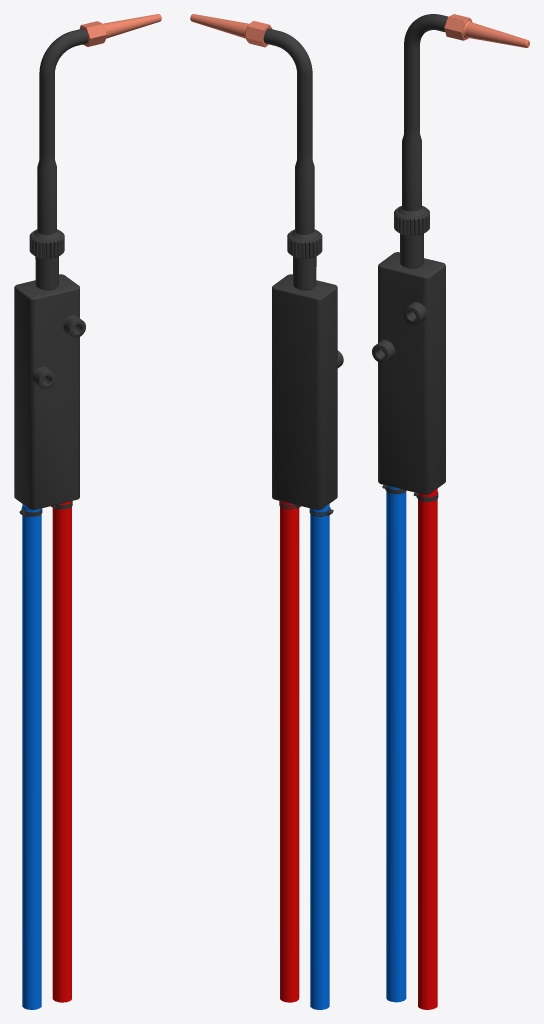
Rendered from Wilding Torch.fbx.
3 views of the same model, side by side, from view 1: azimuth 30°, elevation 25°; view 2: azimuth 150°, elevation 25°; view 3: azimuth 330°, elevation 25° (orthographic). The views are drawn at different scales.
Parts seen in each view (by area): view 1: Welding Kit_D001, Welding Kit_C001; view 2: Welding Kit_D001, Welding Kit_C001; view 3: Welding Kit_D001, Welding Kit_C001.
Part boxes in pixels (left/top/right/bottom): Welding Kit_D001: left=14, top=14, right=161, bottom=516; Welding Kit_C001: left=22, top=501, right=71, bottom=1009; Welding Kit_D001: left=190, top=14, right=343, bottom=516; Welding Kit_C001: left=280, top=501, right=329, bottom=1009; Welding Kit_D001: left=372, top=14, right=529, bottom=501; Welding Kit_C001: left=386, top=485, right=437, bottom=1009.
Size of the model in its own units: 6.5 by 42.95 by 2.04.
Materials: 1 (1 with a texture image).
